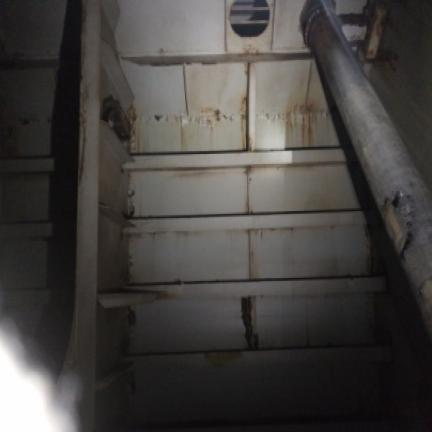besi_tidak_karat: (2, 0, 301, 297), (60, 301, 429, 428)
